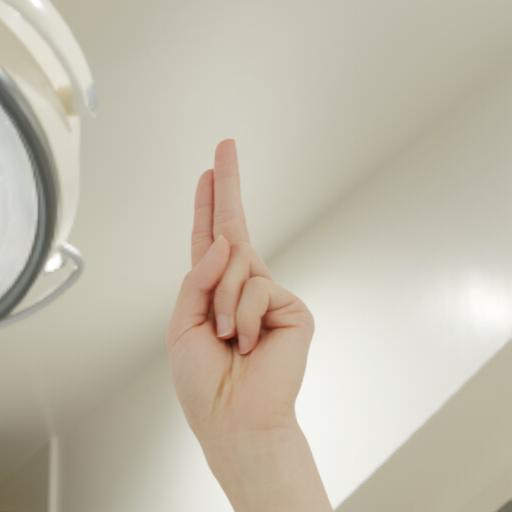U: (152, 134, 324, 458)
